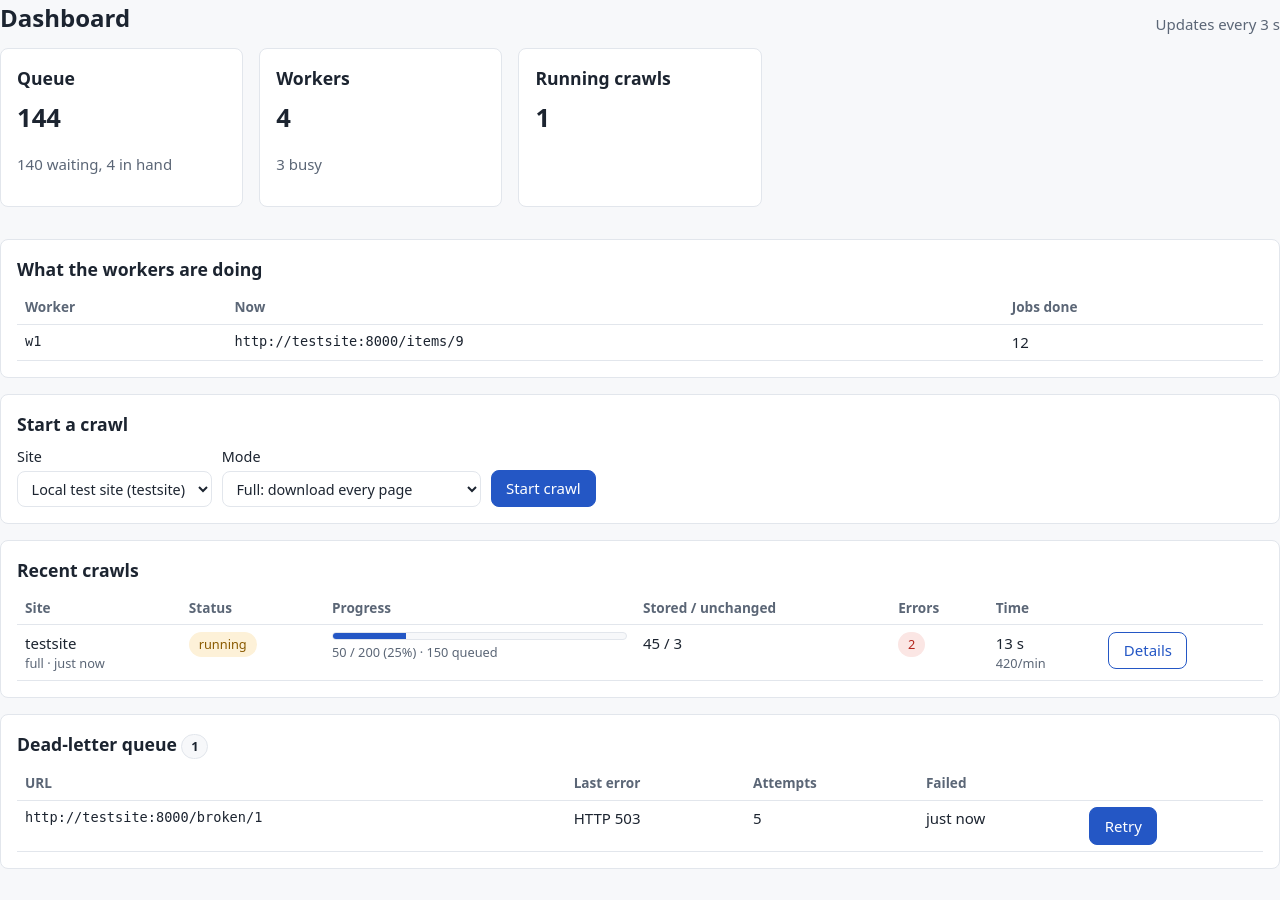
Scenario: Dashboard › lets an admin start a crawl
Select "Incremental: only what changed" in the dropdown labelled "Mode": (351, 489) [222,471,481,507]
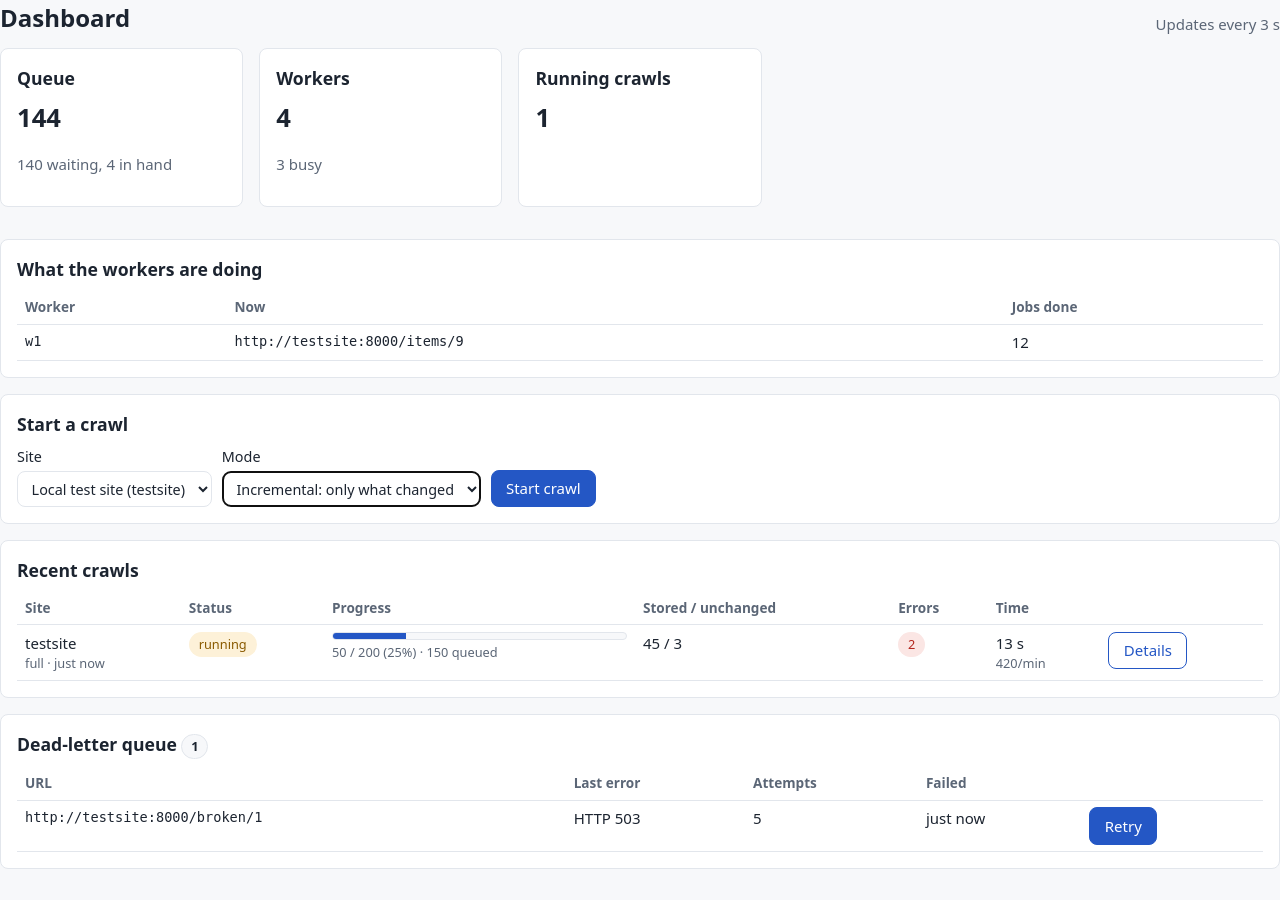
Click the button "Start crawl": (543, 488) [491,470,596,507]
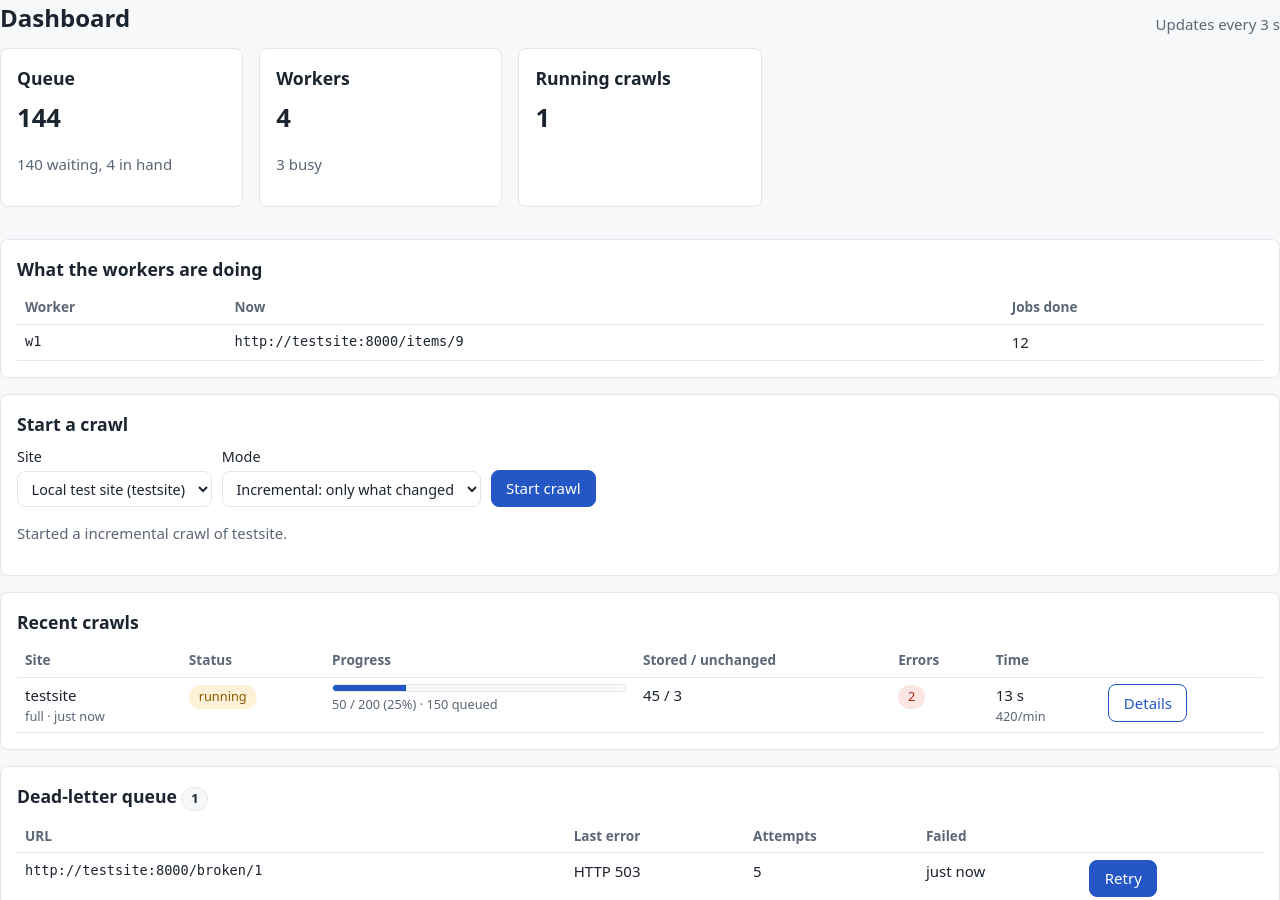
Expected: the message reads "Started a incremental crawl of testsite.", [17,523,287,543]
